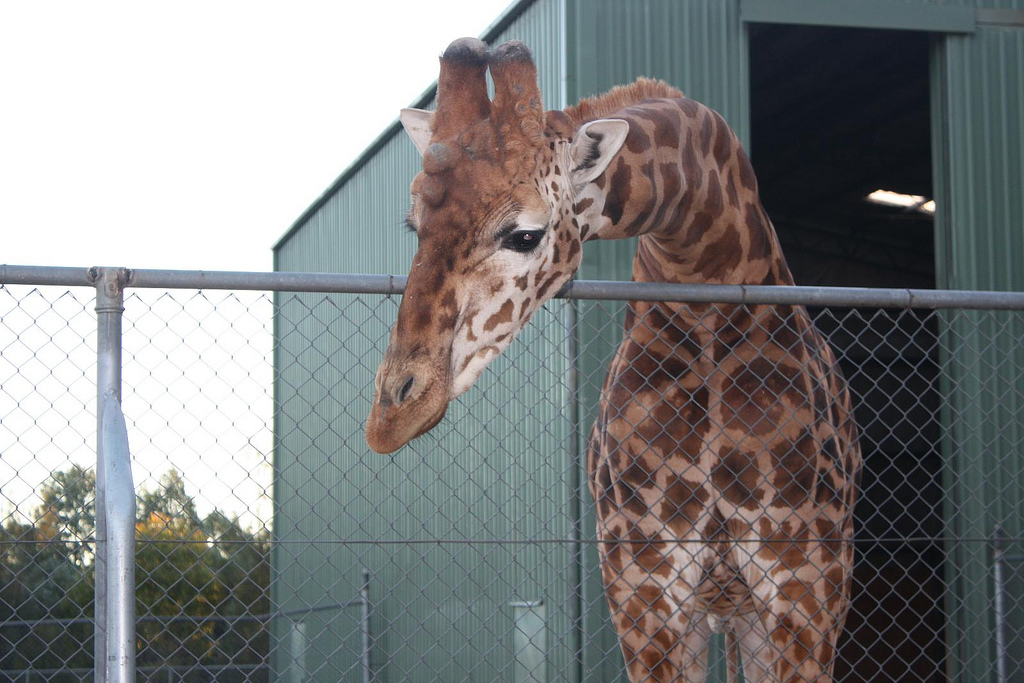giraffe: (370, 45, 881, 661)
